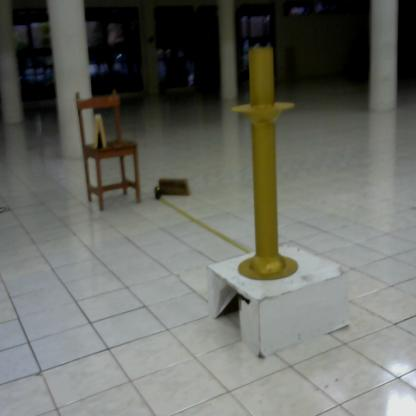pole: (229, 45, 302, 284)
